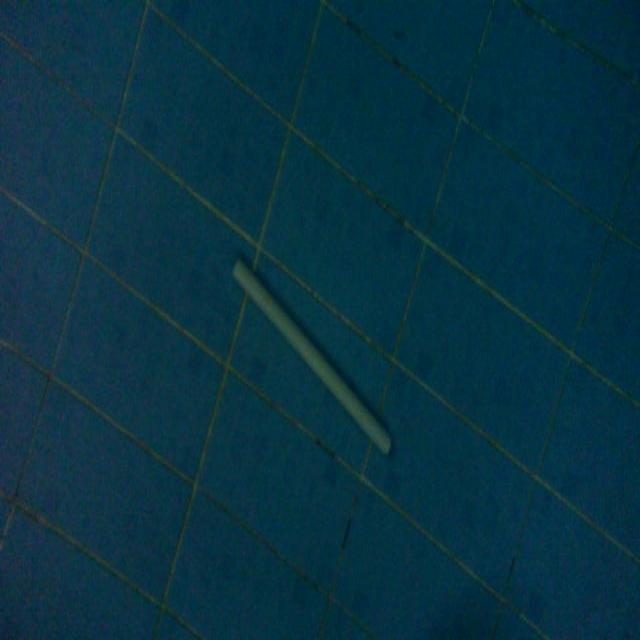Cube: (230, 251, 393, 458)
